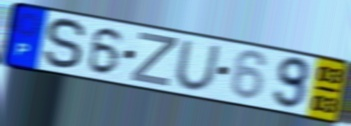6: (227, 49, 272, 104), (87, 26, 126, 76)
9: (270, 55, 311, 111)
S: (42, 16, 89, 71)
U: (173, 39, 223, 94)
Z: (128, 30, 179, 89)
